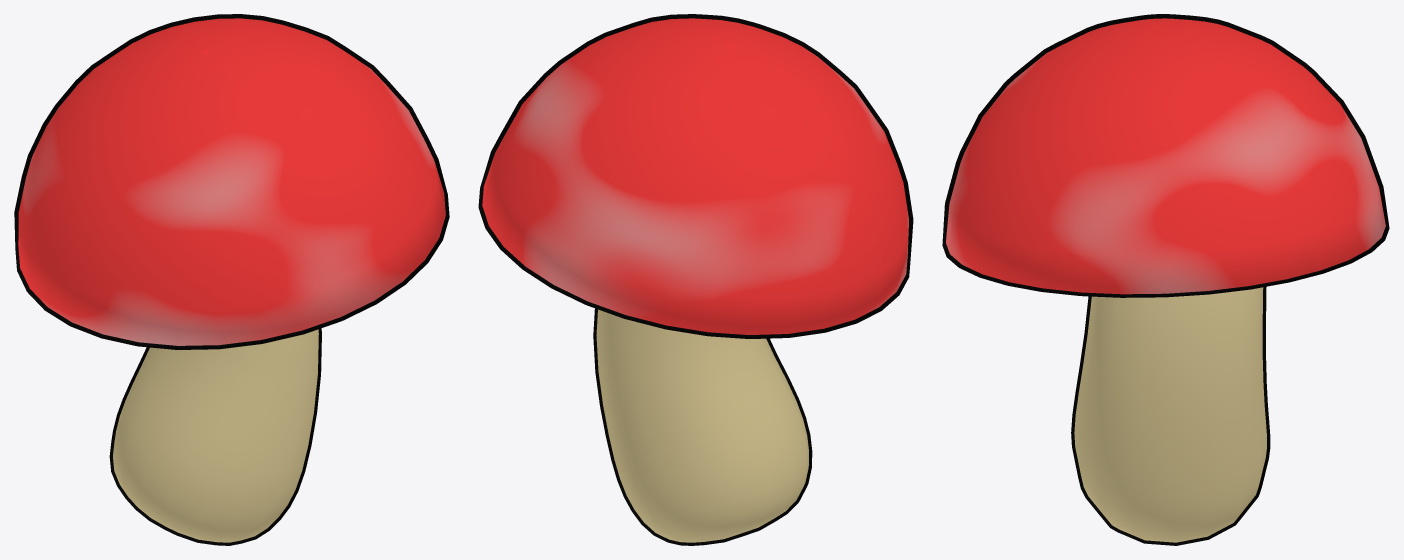
Rendered from Jamur.glb.
3 renders of one model, left to right at view 1: azimuth 30°, elevation 25°; view 2: azimuth 150°, elevation 25°; view 3: azimuth 270°, elevation 25°, orthographic. The views are drawn at different scales.
Visible parts, largest first — view 1: Sphere.001, Cube.001; view 2: Sphere.001, Cube.001; view 3: Sphere.001, Cube.001.
Boxes of the visible parts, box(x1,y1,x2,y2) form: Sphere.001: box(14, 14, 449, 349); Cube.001: box(109, 328, 321, 545); Sphere.001: box(478, 14, 913, 338); Cube.001: box(593, 308, 812, 545); Sphere.001: box(942, 14, 1389, 297); Cube.001: box(1071, 286, 1270, 545).
Size of the model in its own units: 4.04 by 5.09 by 4.07.
3 materials, 2 textured.
